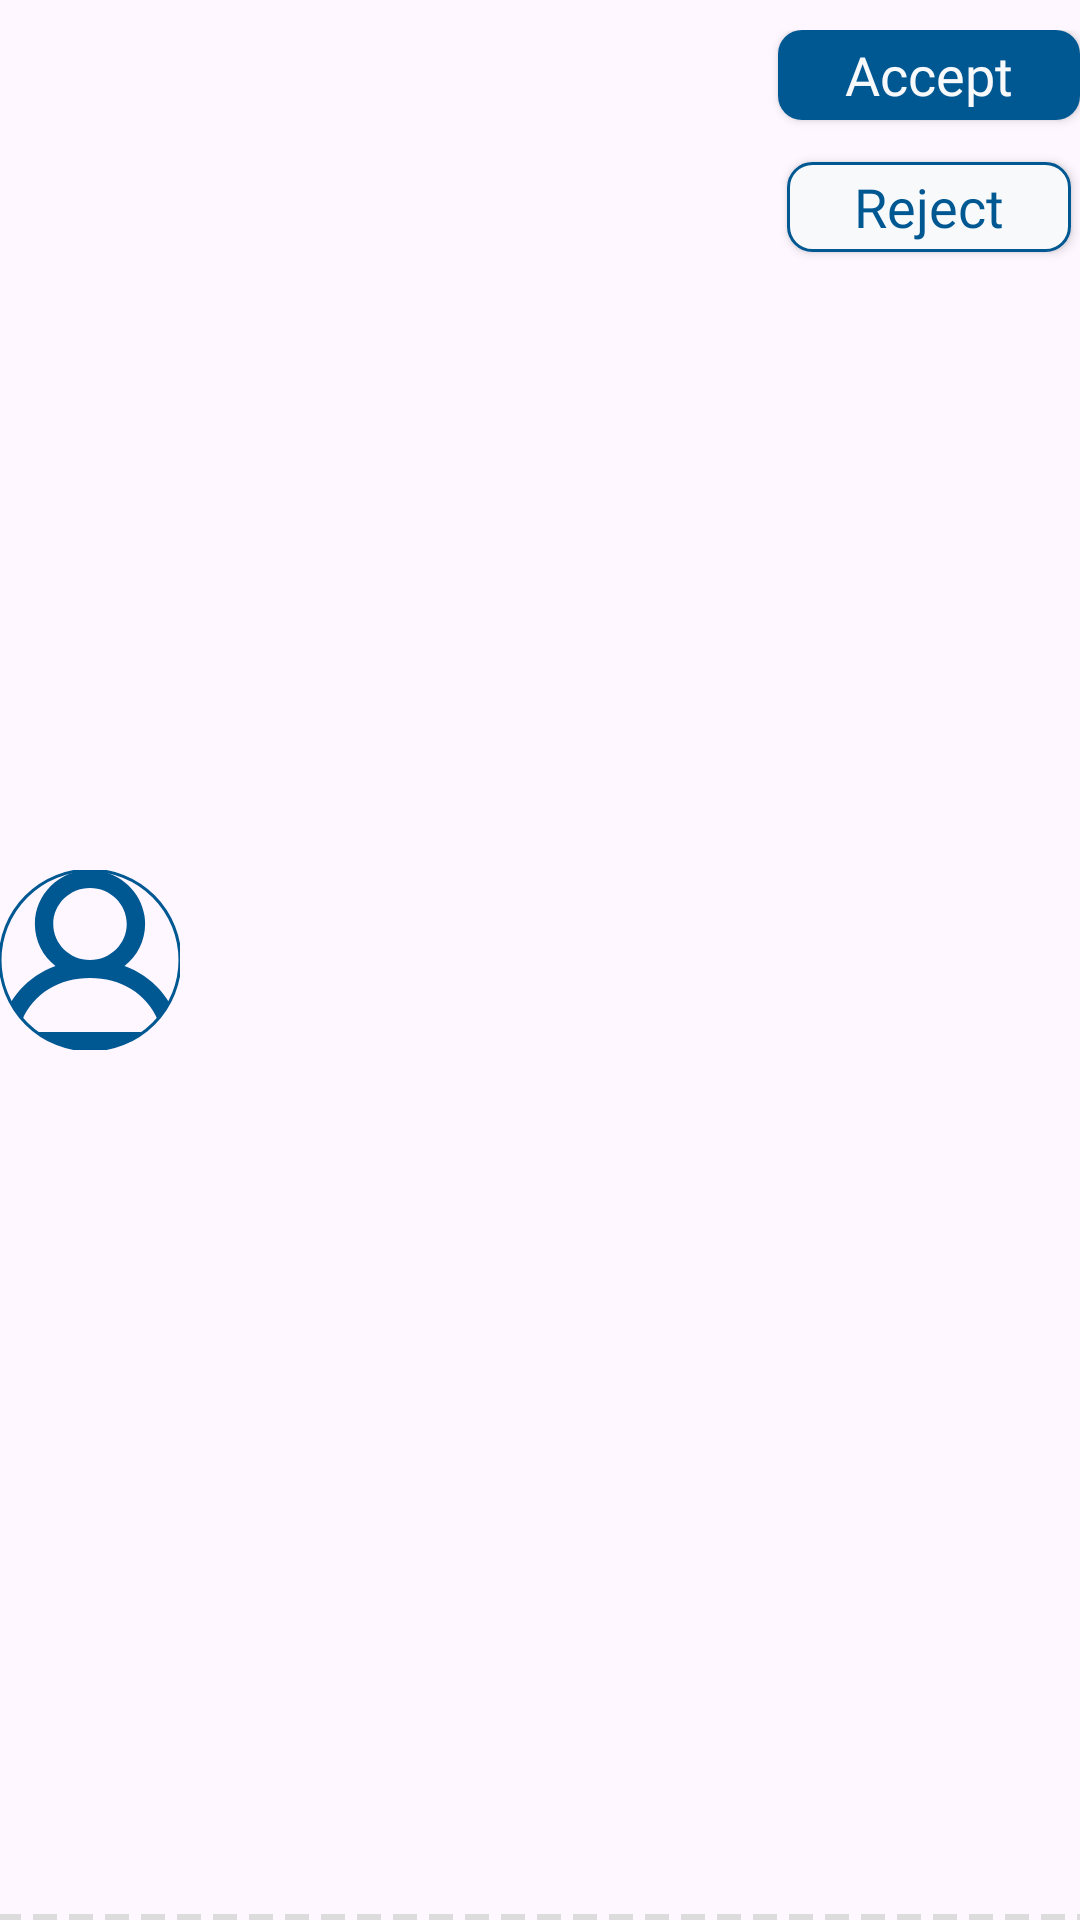

Icon bounding boxes for this 1080 x 1920 phone screenshot, format (x1, y1, x2, y2):
profile: (0, 870, 180, 1050)
